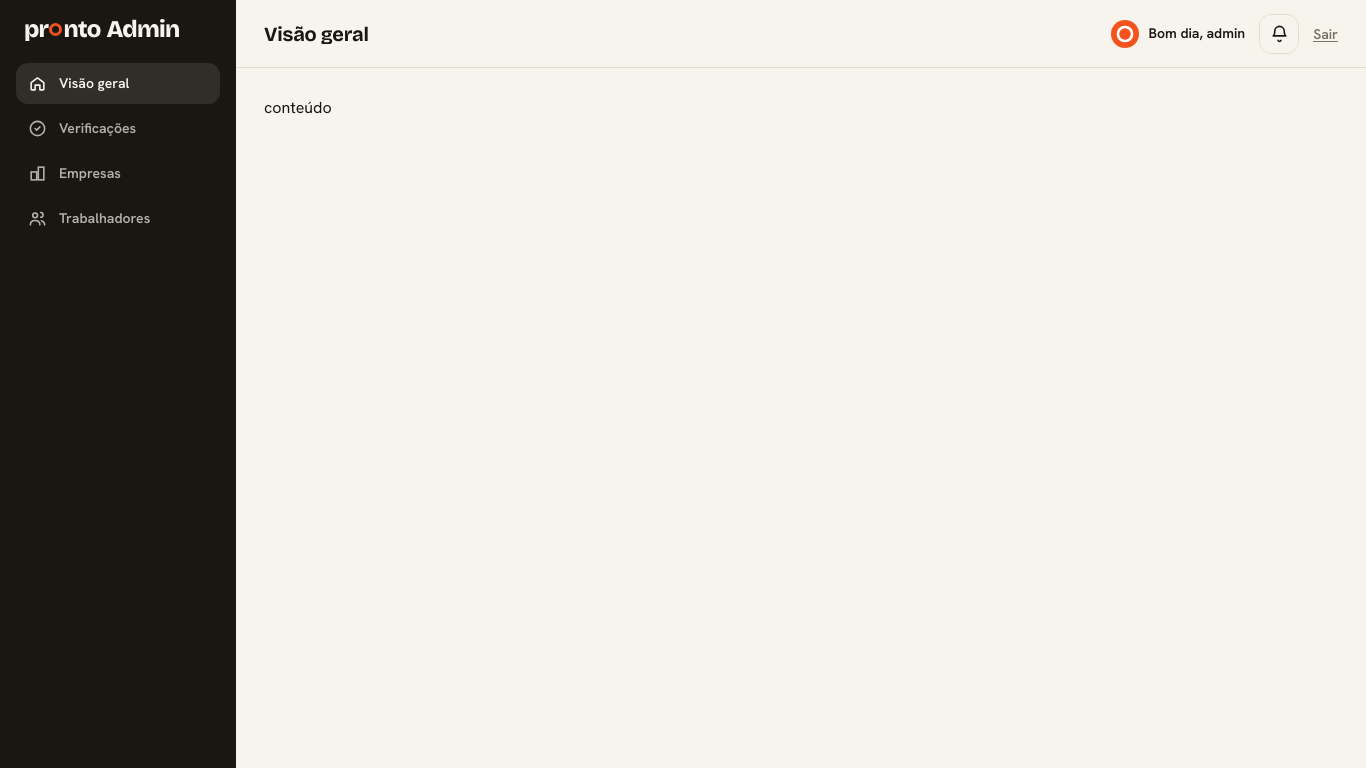
AdminLayout › não mostra contador no sino nem no menu quando não há nada pendente
Expected: the text "conteúdo" is shown, [264,97,332,118]
Click the button named "Verificações pendentes": (1279, 34) [1259,14,1299,54]
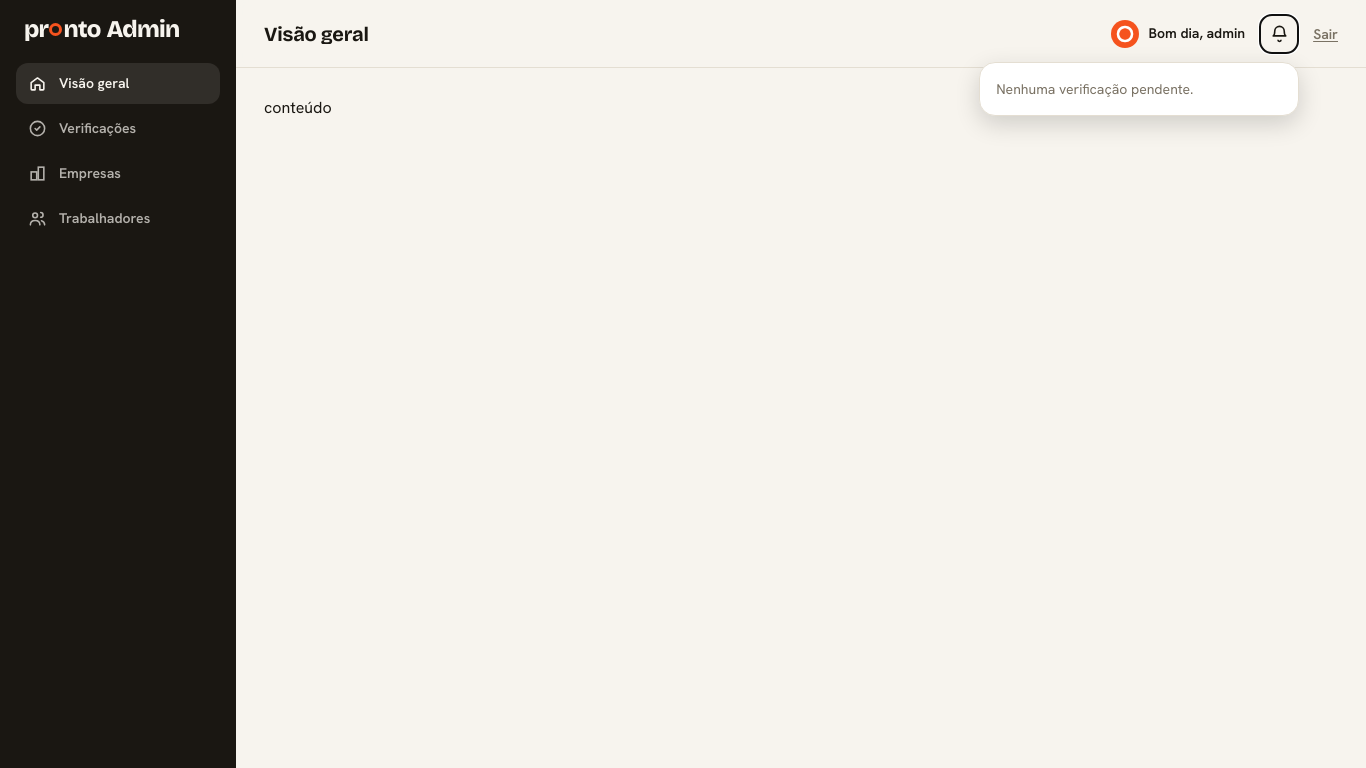
Expected: the text "Nenhuma verificação pendente." is shown, [996,80,1193,98]
